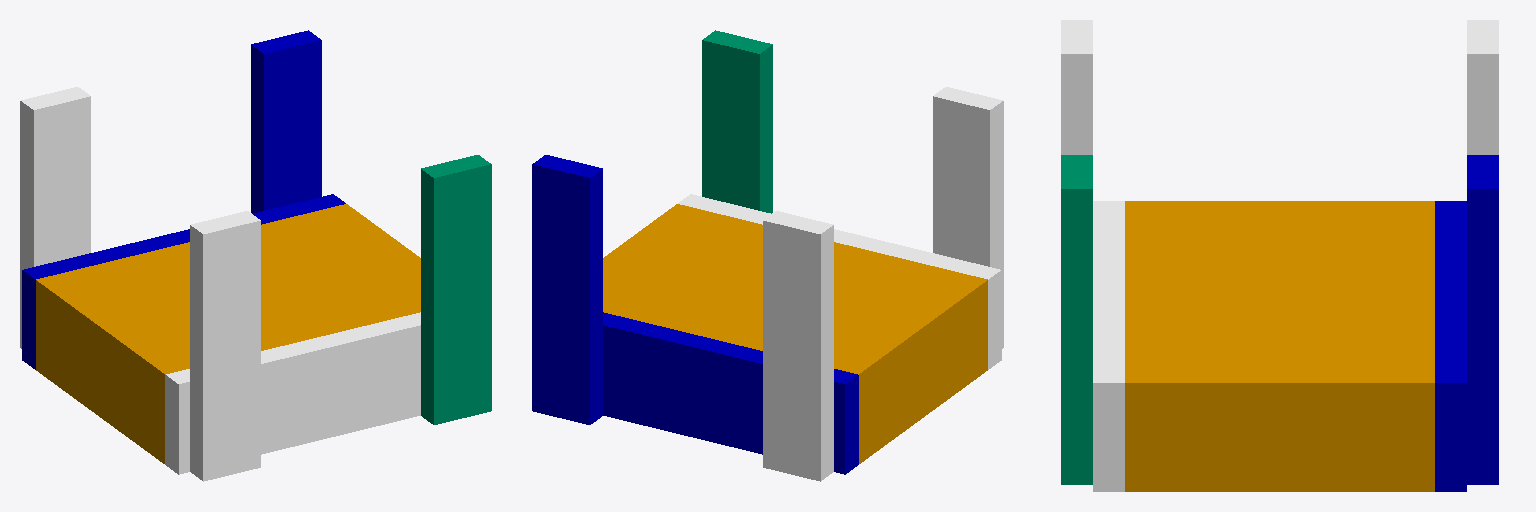
The robot description file, URDF, robot "RICA":
<?xml version="1.0"?>
<robot name="RICA">

  <material name="blue">
    <color rgba="0 0 0.8 1"/>
  </material>

  <material name="white">
    <color rgba="1 1 1 1"/>
  </material>

  <link name="base_link">
    <visual>
      <geometry>
        <box  size="0.54 0.39 0.15"/>
      </geometry>
    </visual>
  </link>

  <link name="front_left_leg">
    <visual>
      <geometry>
        <box size="0.41 0.04 0.1"/>
      </geometry>
      <origin rpy="0 1.57075 0" xyz="0 0.06 0.17"/>
      <material name="blue"/>
    </visual>
    <collision>
      <geometry>
        <box size="0.41 0.04 0.1"/>
      </geometry>
      <origin rpy="0 1.57075 0" xyz="0 0.06 0.17"/>
    </collision>
  </link>

  <joint name="base_to_front_left_leg" type="revolute">
    <axis xyz="0 1 0"/>
    <limit effort="1000.0" lower="0.0" upper="6.28" velocity="0.5"/>
    <parent link="base_link"/>
    <child link="front_left_leg"/>
    <origin xyz="0.20 0.195 -0.04"/>
  </joint>

  <link name="front_right_leg">
    <visual>
      <geometry>
        <box size="0.41 0.04 0.1"/>
      </geometry>
      <origin rpy="0 1.57075 0" xyz="0 -0.06 0.17"/>
    </visual>
    <collision>
      <geometry>
        <box size="0.41 0.04 0.1"/>
      </geometry>
      <origin rpy="0 1.57075 0" xyz="0 -0.06 0.17"/>
    </collision>
  </link>

  <joint name="base_to_front_right_leg" type="revolute">
    <axis xyz="0 1 0"/>
    <limit effort="1000.0" lower="0.0" upper="6.28" velocity="0.5"/>
    <parent link="base_link"/>
    <child link="front_right_leg"/>
    <origin xyz="0.20 -0.195 -0.04"/>
  </joint>

    <link name="back_left_leg">
    <visual>
      <geometry>
        <box size="0.41 0.04 0.1"/>
      </geometry>
      <origin rpy="0 1.57075 0" xyz="0 0.06 0.17"/>
      <material name="white"/>
    </visual>
    <collision>
      <geometry>
        <box size="0.41 0.04 0.1"/>
      </geometry>
      <origin rpy="0 1.57075 0" xyz="0 0.06 0.17"/>
    </collision>
  </link>

  <joint name="base_to_back_left_leg" type="revolute">
    <axis xyz="0 1 0"/>
    <limit effort="1000.0" lower="-6.28" upper="0.0" velocity="-0.5"/>
    <parent link="base_link"/>
    <child link="back_left_leg"/>
    <origin xyz="-0.20 0.195 -0.04"/>
  </joint>

    <link name="back_right_leg">
    <visual>
      <geometry>
        <box size="0.41 0.04 0.1"/>
      </geometry>
      <origin rpy="0 1.57075 0" xyz="0 -0.06 0.17"/>
      <material name="white"/>
    </visual>
    <collision>
      <geometry>
        <box size="0.41 0.04 0.1"/>
      </geometry>
      <origin rpy="0 1.57075 0" xyz="0 -0.06 0.17"/>
    </collision>  
  </link>

  <joint name="base_to_back_right_leg" type="revolute">
    <axis xyz="0 1 0"/>
    <limit effort="1000.0" lower="-6.28" upper="0.0" velocity="0.5"/>
    <parent link="base_link"/>
    <child link="back_right_leg"/>
    <origin xyz="-0.20 -0.195 -0.04"/>
  </joint>

    <link name="left_side">
    <visual>
      <geometry>
        <box size="0.54 0.04 0.15"/>
      </geometry>
      <origin rpy="0 0 0" xyz="0 0.02 0"/>
      <material name="blue"/>
    </visual>
  </link>

<joint name="base_to_left_side" type="revolute">
  <parent link="base_link"/><child link="left_side"/>
  <origin xyz="0 0.195 0"/>
  <axis xyz="0 1 0"/>
  <limit lower="-1.57" upper="1.57" effort="50" velocity="1.0"/>
</joint>

    <link name="right_side">
    <visual>
      <geometry>
        <box size="0.54 0.04 0.15"/>
      </geometry>
      <origin rpy="0 0 0" xyz="0 -0.02 0"/>
      <material name="white"/>
    </visual>
  </link>

 <joint name="base_to_right_side" type="revolute">
  <parent link="base_link"/><child link="right_side"/>
  <origin xyz="0 -0.195 0"/>
  <axis xyz="0 1 0"/>
  <limit lower="-1.57" upper="1.57" effort="50" velocity="1.0"/>
</joint>
</robot>

--- What the picture shows (computed from the rendered views, not written in the file) ---
The picture shows the robot from 3 angles, left to right: view 1: azimuth 30°, elevation 25°; view 2: azimuth 150°, elevation 25°; view 3: azimuth 270°, elevation 25°; orthographic projection.
Model RICA with 7 links and 6 joints (6 revolute), rooted at base_link, posed all joints at 0.
Visible links, largest first — view 1: base_link, right_side, back_right_leg, front_right_leg, back_left_leg, front_left_leg, left_side; view 2: base_link, left_side, back_left_leg, front_left_leg, back_right_leg, front_right_leg, right_side; view 3: base_link, front_left_leg, front_right_leg, left_side, right_side, back_left_leg, back_right_leg.
Link boxes in pixels (x1,y1,x2,y2): base_link: (36, 204, 420, 463); right_side: (165, 312, 420, 474); back_right_leg: (190, 211, 260, 481); front_right_leg: (421, 155, 491, 424); back_left_leg: (20, 87, 90, 348); front_left_leg: (251, 30, 321, 213); left_side: (22, 194, 345, 369); base_link: (603, 204, 987, 463); left_side: (603, 312, 858, 474); back_left_leg: (763, 211, 833, 481); front_left_leg: (532, 155, 602, 424); back_right_leg: (933, 87, 1003, 348); front_right_leg: (702, 30, 772, 213); right_side: (678, 194, 1001, 369); base_link: (1125, 201, 1434, 491); front_left_leg: (1467, 155, 1498, 484); front_right_leg: (1061, 155, 1092, 484); left_side: (1435, 201, 1466, 491); right_side: (1093, 201, 1124, 491); back_left_leg: (1467, 20, 1498, 154); back_right_leg: (1061, 20, 1092, 154).
Bounding box of the posed robot: 0.54 × 0.55 × 0.41 m (x, y, z).
Geometry: primitives only (box / cylinder / sphere), no mesh files.